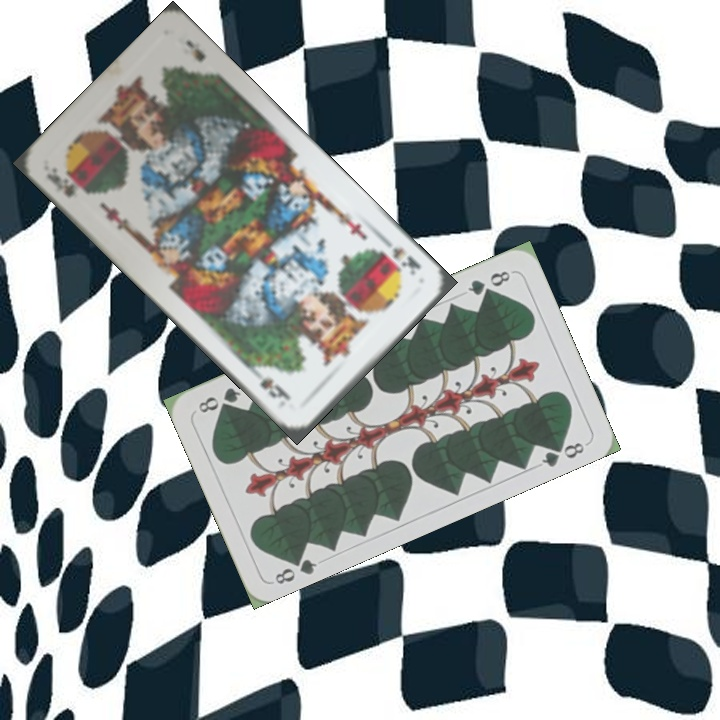G8: (270, 549, 320, 587), (463, 266, 513, 298)
SK: (377, 234, 424, 279), (42, 163, 91, 200)
